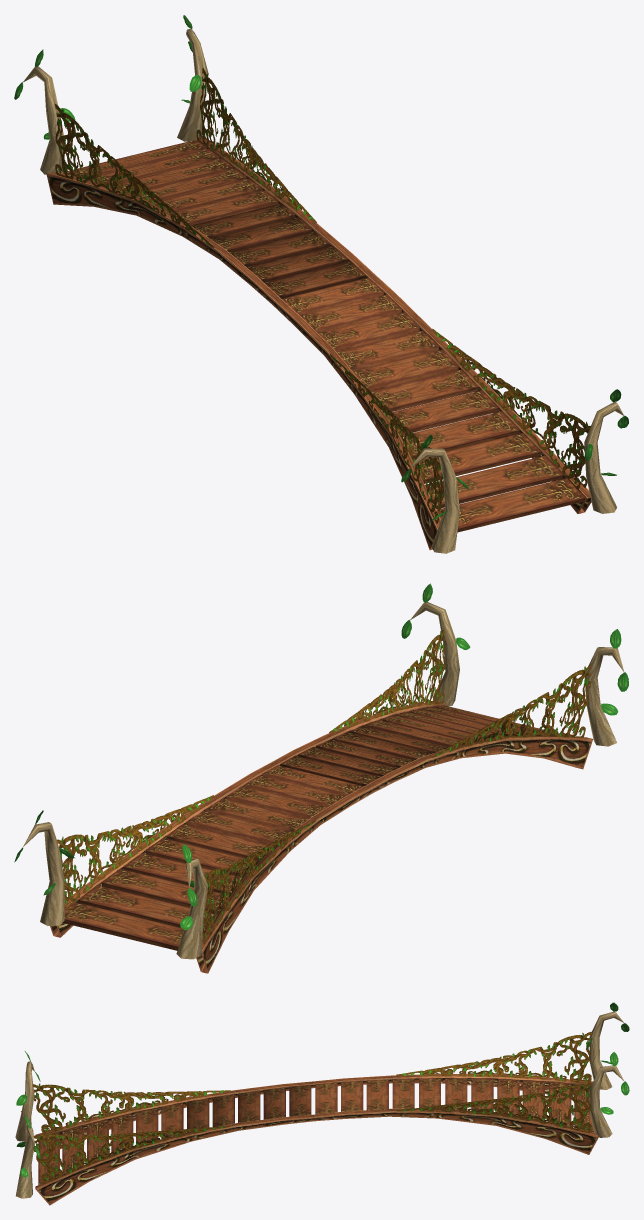
Rendered from EKH_GROTTO_PS_GR_BRIDGE_4836__GX.fbx.
3 views of the same model, one above another, from view 1: azimuth 30°, elevation 25°; view 2: azimuth 150°, elevation 25°; view 3: azimuth 270°, elevation 25° (orthographic). The views are drawn at different scales.
Visible parts, largest first — view 1: EKH_GROTTO_PS_GR_BRIDGE_4836__GX; view 2: EKH_GROTTO_PS_GR_BRIDGE_4836__GX; view 3: EKH_GROTTO_PS_GR_BRIDGE_4836__GX.
Boxes of the visible parts, <box> form: EKH_GROTTO_PS_GR_BRIDGE_4836__GX: <box>14,15,628,553</box>; EKH_GROTTO_PS_GR_BRIDGE_4836__GX: <box>14,583,628,973</box>; EKH_GROTTO_PS_GR_BRIDGE_4836__GX: <box>15,1002,629,1205</box>.
Bounding box in the file's own units: 29333 × 25841 × 95350.
5 materials, 5 textured.
